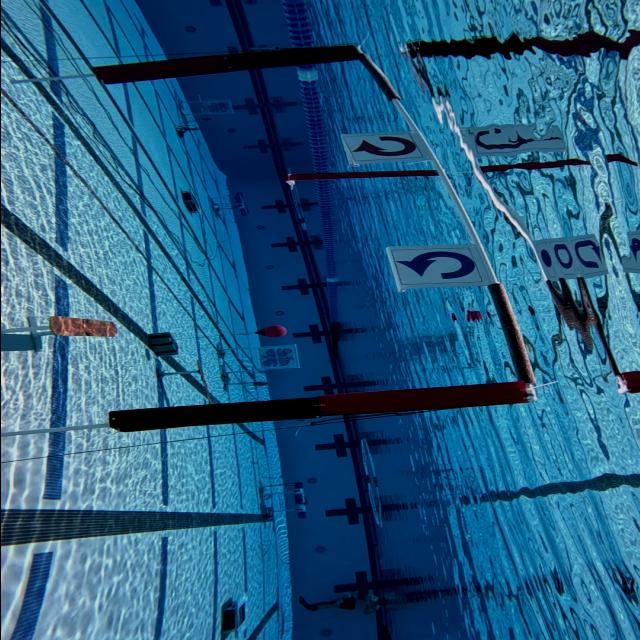blue_side: (388, 242, 482, 294)
red_side: (332, 131, 422, 168)
